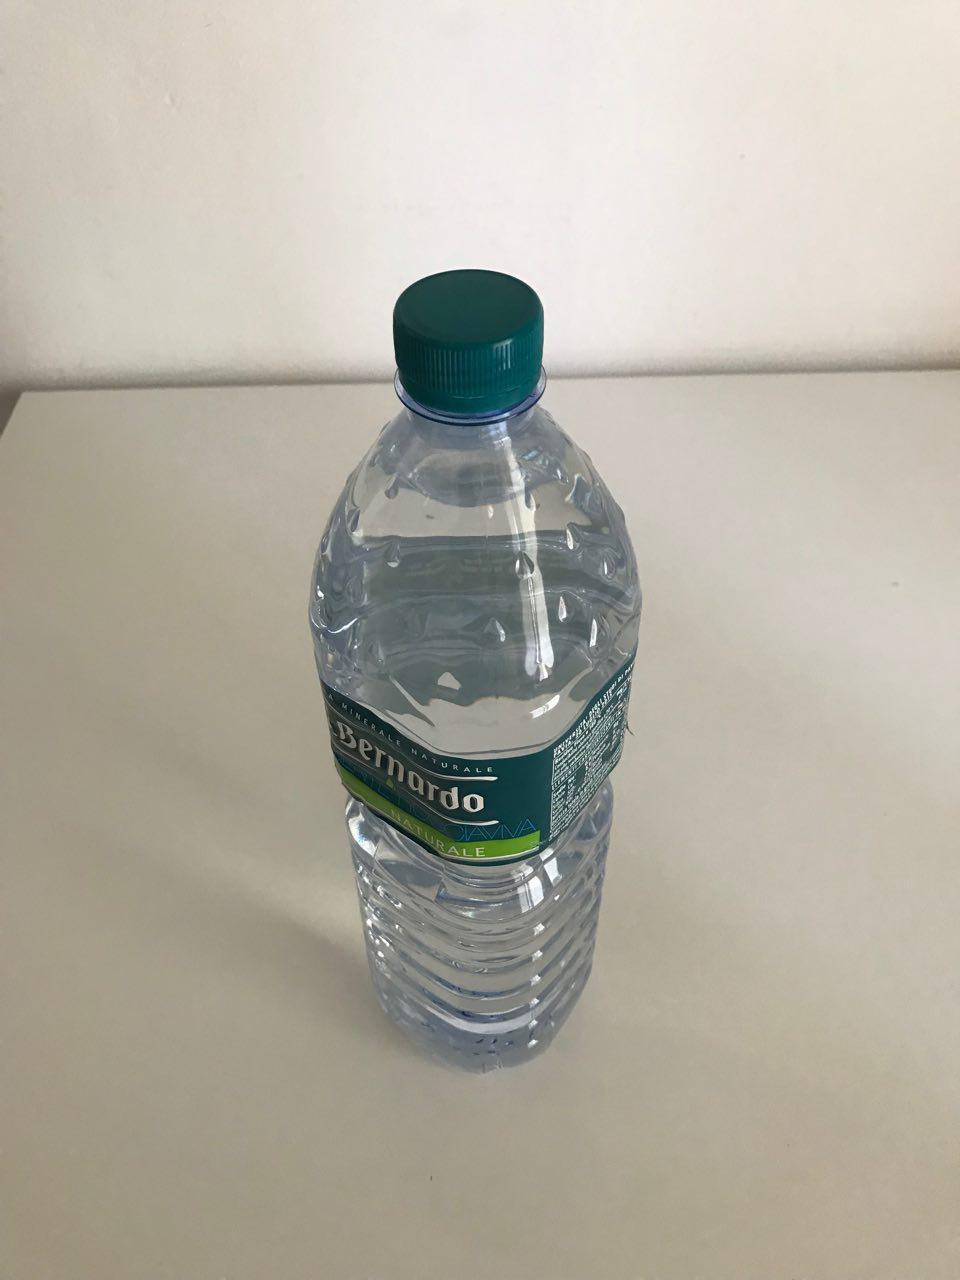san_bernardo: (308, 267, 644, 1075)
